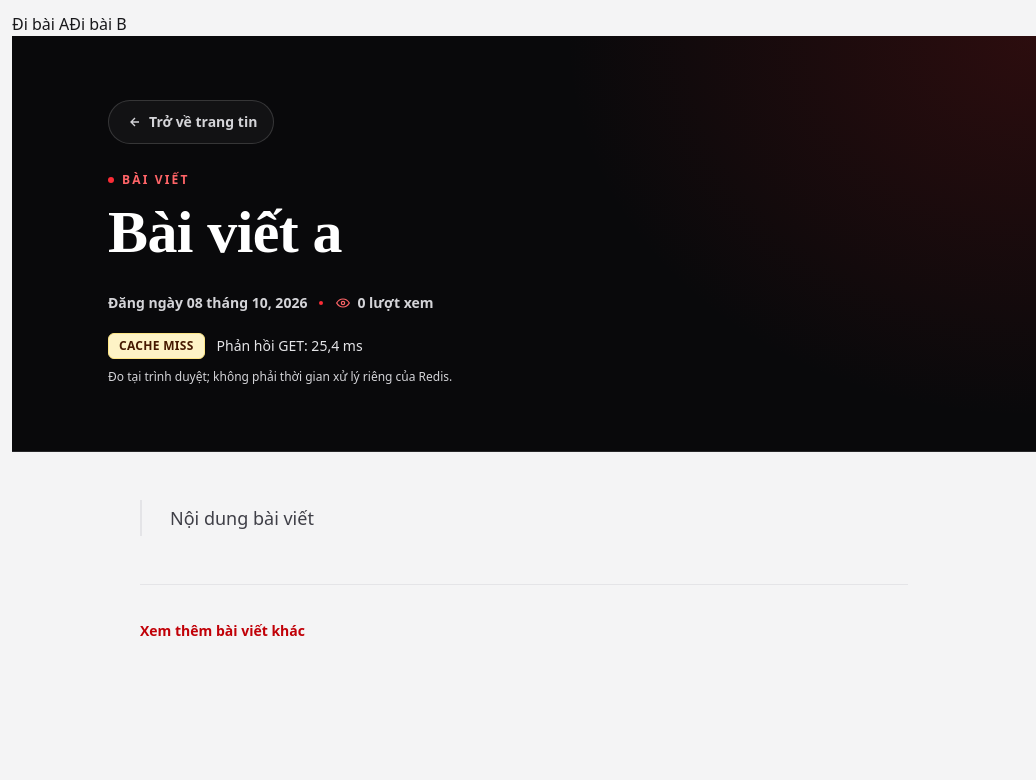
Test: PostDetailPage hồi quy và badge cache › view của bài cũ hoàn tất không đổi metadata/lượt xem bài mới
The image size is (1036, 780).
Check: the heading "Bài viết a" is shown, box [108,199,342,265]
Click the link "Đi bài B" at coordinates (98, 24), box [69,13,127,35]
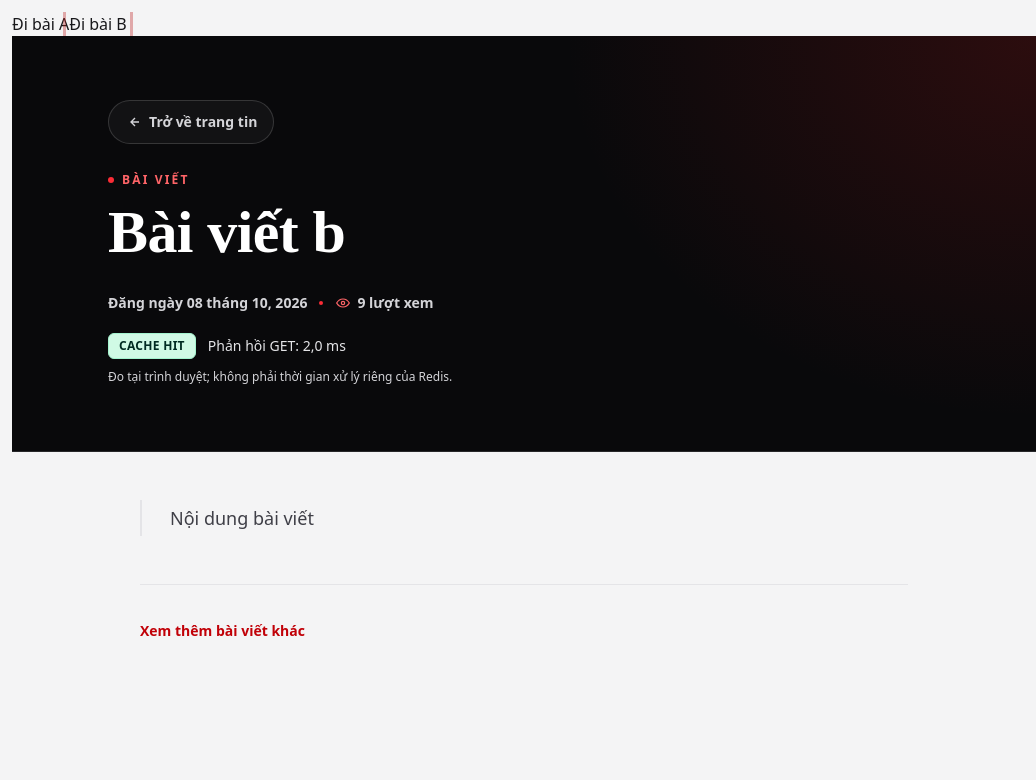
Check: the heading "Bài viết b" is shown, box [108,199,345,265]
Check: the text "9 lượt xem" is shown, box [335,293,434,313]
Check: the text "CACHE HIT" is shown, box [108,333,196,359]
